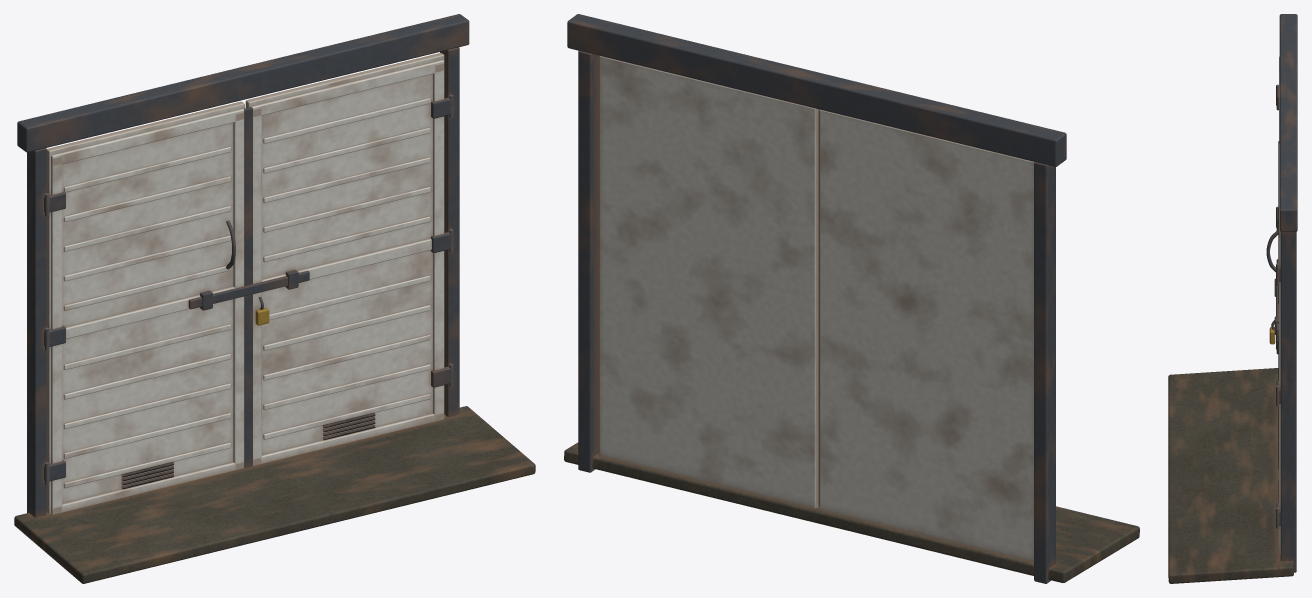
File: garaz_brama.glb
The picture shows the model from 3 angles, left to right: view 1: azimuth 30°, elevation 25°; view 2: azimuth 150°, elevation 25°; view 3: azimuth 270°, elevation 25°; orthographic projection. The views are drawn at different scales.
Visible parts, largest first — view 1: TintBrama, Brama; view 2: TintBrama, Brama; view 3: Brama, TintBrama.
Boxes of the visible parts, x1,y1,x2,y2 form: TintBrama: (46,53,444,514); Brama: (14,14,535,583); TintBrama: (599,56,1034,561); Brama: (564,14,1139,583); Brama: (1168,14,1297,583); TintBrama: (1279,56,1280,554).
Bounding box in the file's own units: 2.65 × 2.29 × 0.7204.
2 materials, 2 textured.
